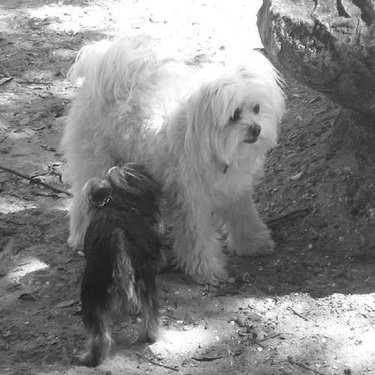dog: (45, 24, 293, 294), (66, 151, 168, 370)
